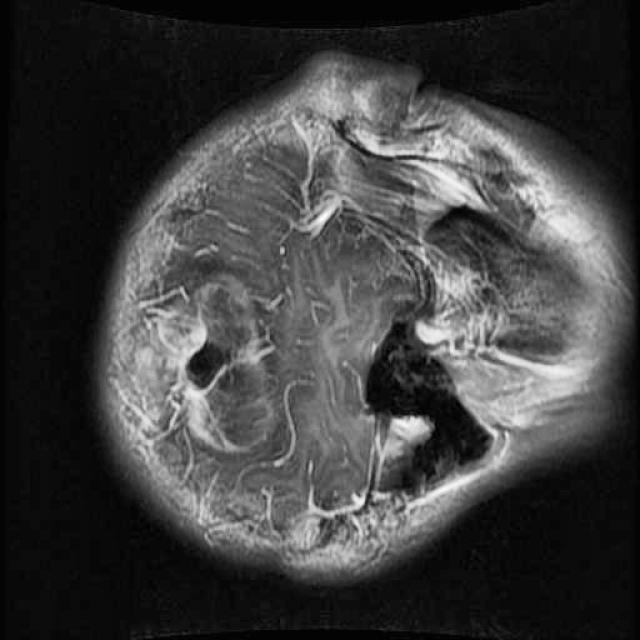Non-Tumor: (139, 231, 341, 491)
